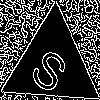S: (27, 39, 76, 97)
